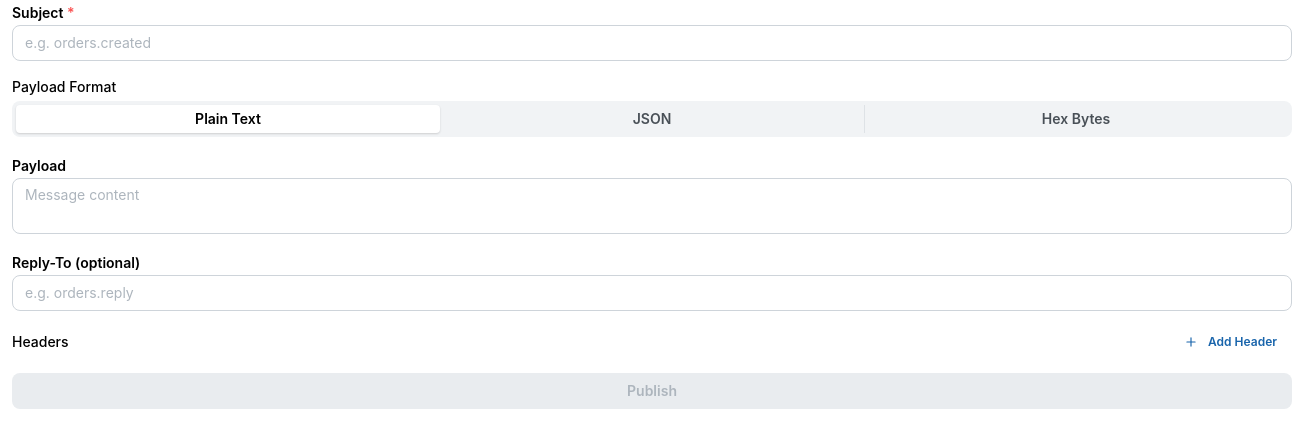
Test: subject with whitespace disables submit
The width and height of the screenshot is (1304, 445).
Step 1. Type "orders with spaces" into the field labelled "Subject *" → (652,43), box [12, 25, 1292, 61]
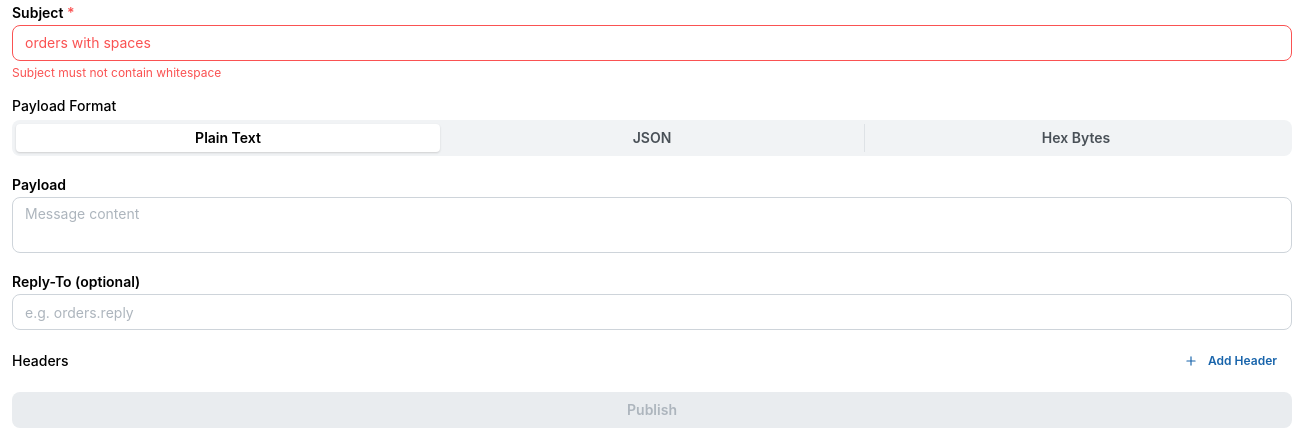
Expected: the button "Publish" is disabled, [12, 392, 1292, 428]
Result: the text "Subject must not contain whitespace" is shown at [12, 65, 221, 80]
